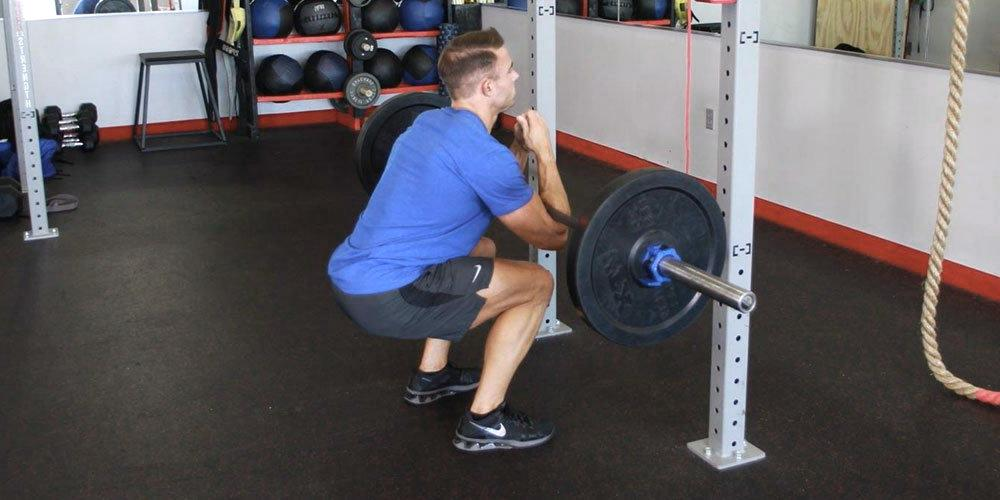Barbell: (735, 289, 758, 316)
